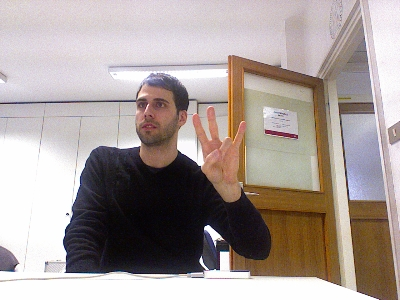观音: (190, 104, 248, 184)
